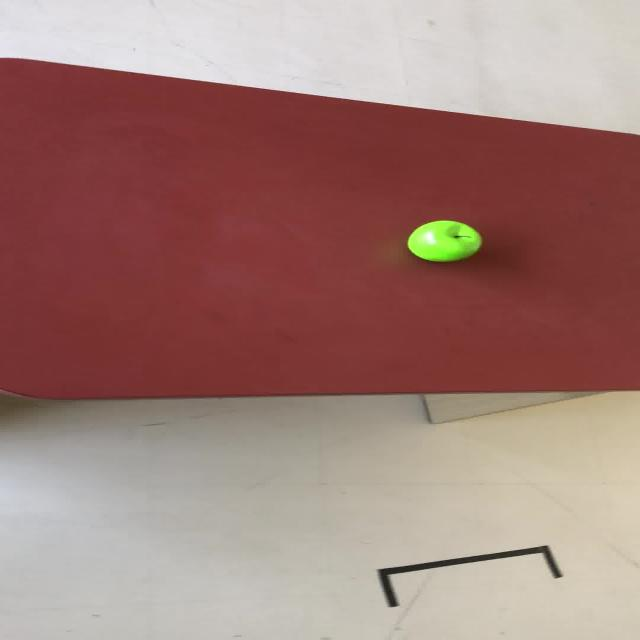apple: (405, 219, 482, 262)
